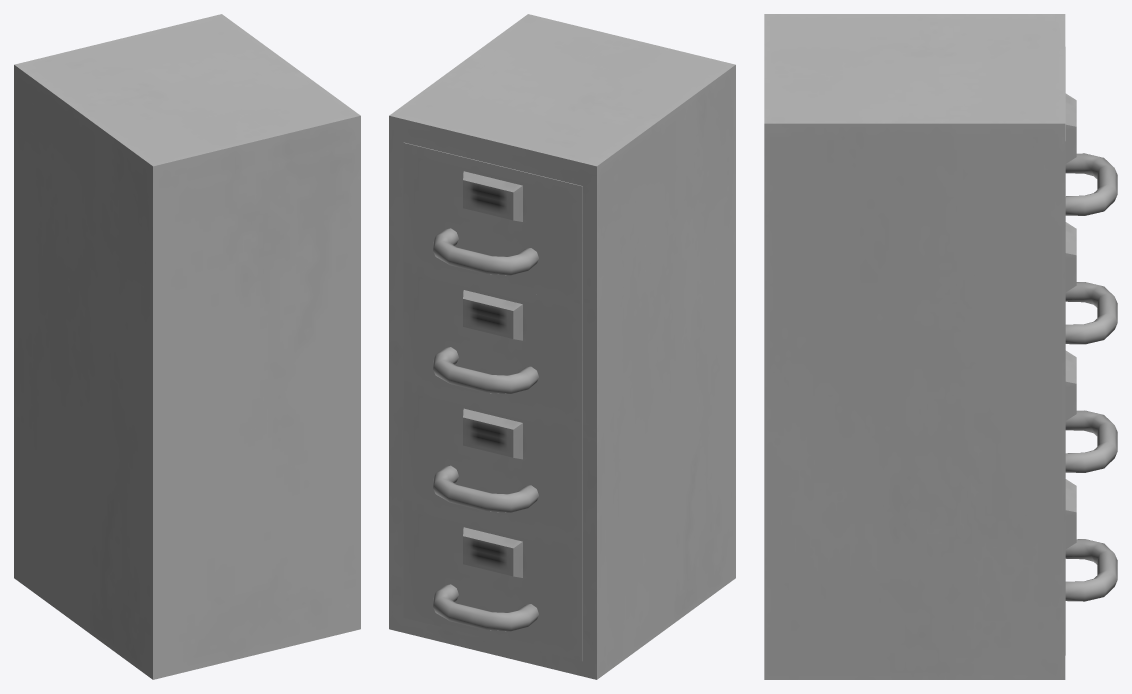
File: Pfb_FileCabient_M2.fbx
The picture shows the model from 3 angles, left to right: view 1: azimuth 30°, elevation 25°; view 2: azimuth 150°, elevation 25°; view 3: azimuth 270°, elevation 25°; orthographic projection. The views are drawn at different scales.
Visible parts, largest first — view 1: Mat_FileCabient; view 2: Mat_FileCabient; view 3: Mat_FileCabient.
Boxes of the visible parts, x1,y1,x2,y2 form: Mat_FileCabient: (14,14,360,679); Mat_FileCabient: (389,14,735,679); Mat_FileCabient: (764,14,1117,679).
Size of the model in its own units: 0.6634 by 1.57 by 0.9021.
Materials: 1 (1 with a texture image).
